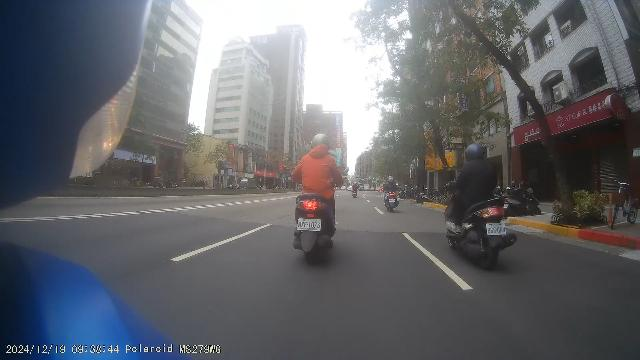plate: (296, 219, 321, 231), (486, 222, 506, 235)
